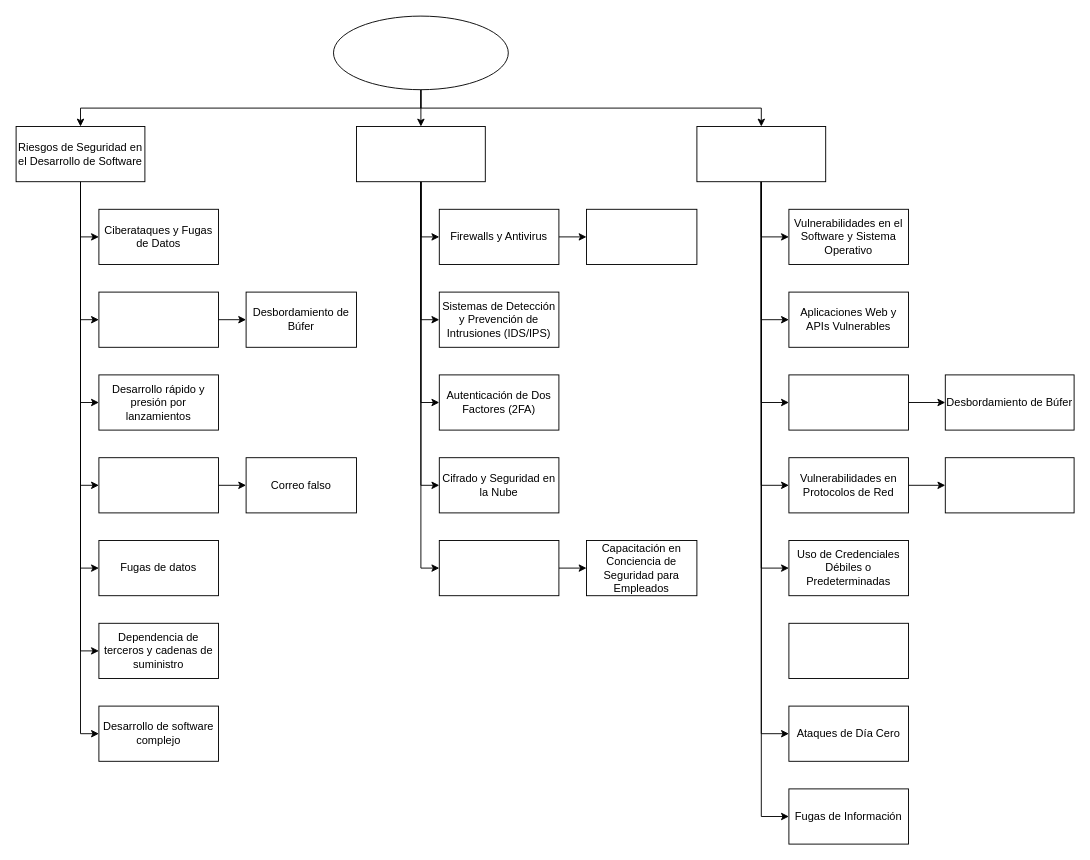
This 1090x860 diagram has some shape labels left out. The centre of each missing label's shape, as x and y in pixels:
"Ataque de Denegación de Servicio (DoS) a través de Vulnerabilidad en Protocolo" goes at point 1009,485.
"Desbordamientos de Memoria" goes at point 848,402.
"Educación en Ciberseguridad" goes at point 498,568.
"Ingeniería Social y Phishing" goes at point 158,485.
"McAfee" goes at point 641,236.
"Puertas Traseras (Backdoors)" goes at point 848,650.
"Riesgos de Seguridad en Desarrollo de Software" goes at point 420,52.
"Tecnologías Disponibles para PyMEs en México" goes at point 420,154.
"Vulnerabilidades de Software" goes at point 158,319.
"Áreas de Fallas de Software Explotables por un Gobierno Enemigo" goes at point 761,154.
